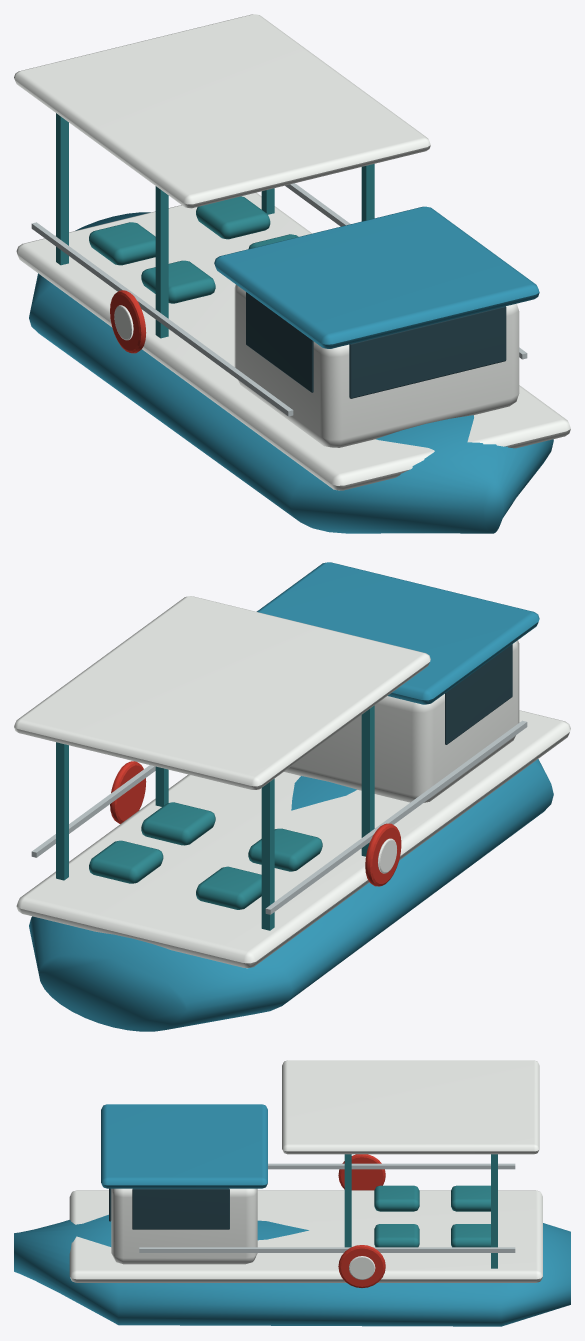
File: river-ferry.glb
3 views of the same model, one above another, from view 1: azimuth 30°, elevation 25°; view 2: azimuth 150°, elevation 25°; view 3: azimuth 270°, elevation 25° (orthographic). The views are drawn at different scales.
Parts seen in each view (by area): view 1: RiverFerry; view 2: RiverFerry; view 3: RiverFerry.
Part boxes in pixels (bbox=[...]): RiverFerry: bbox=[14, 14, 570, 533]; RiverFerry: bbox=[14, 562, 570, 1031]; RiverFerry: bbox=[14, 1060, 570, 1326].
Size of the model in its own units: 3.23 by 3.18 by 8.
